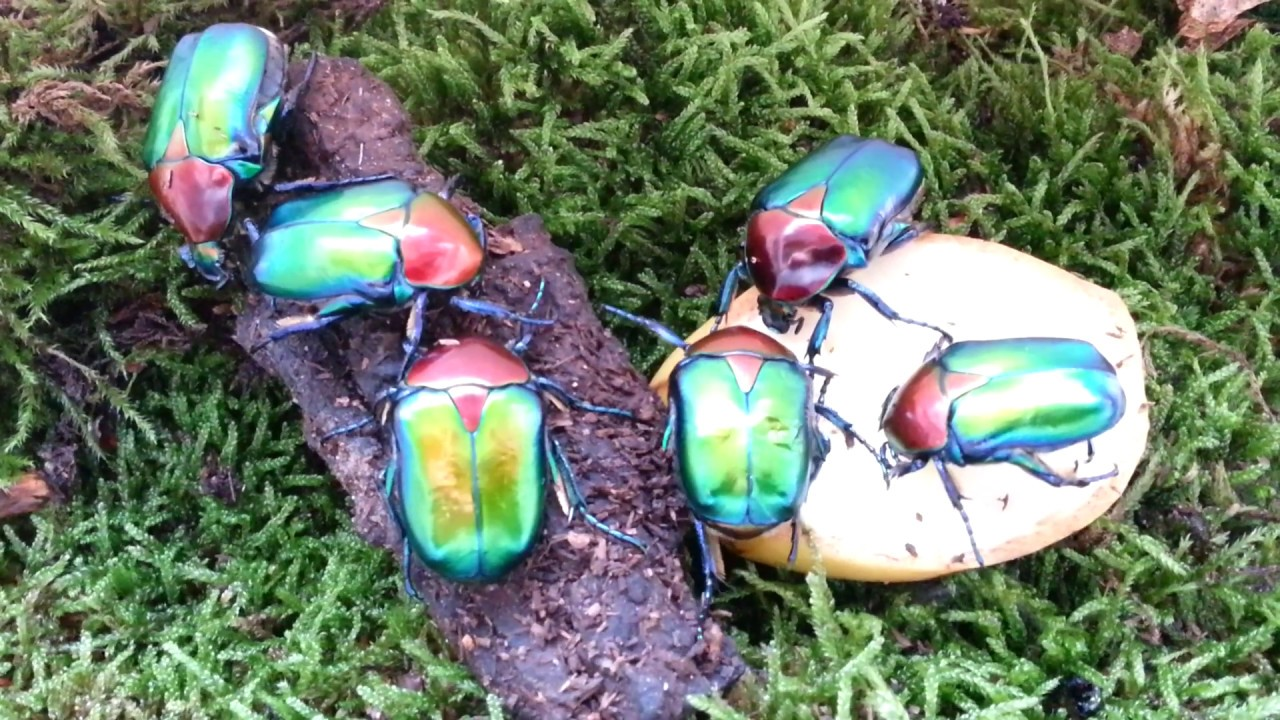Protaetia_speciosa_jousseliniw: (881, 329, 1156, 589), (599, 289, 805, 605), (345, 317, 564, 604), (708, 111, 939, 366), (134, 18, 281, 267), (239, 170, 505, 304)
